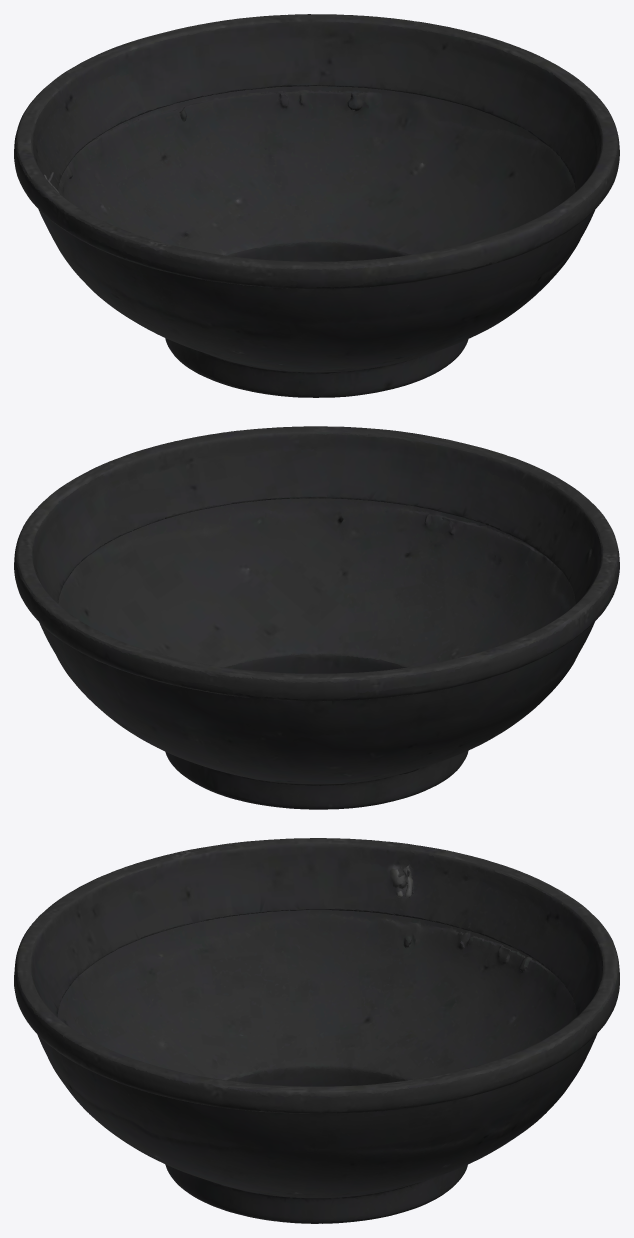
File: 02_diguo.glb
The picture shows the model from 3 angles, top to bottom: view 1: azimuth 30°, elevation 25°; view 2: azimuth 150°, elevation 25°; view 3: azimuth 270°, elevation 25°; orthographic projection.
Visible parts, largest first — view 1: geometry_0; view 2: geometry_0; view 3: geometry_0.
Part boxes in pixels (x1=…): geometry_0: x1=14, y1=14, x2=619, y2=397; geometry_0: x1=14, y1=426, x2=619, y2=809; geometry_0: x1=14, y1=838, x2=619, y2=1223.
Size of the model in its own units: 0.28 by 0.1006 by 0.2799.
1 material, 1 textured.
